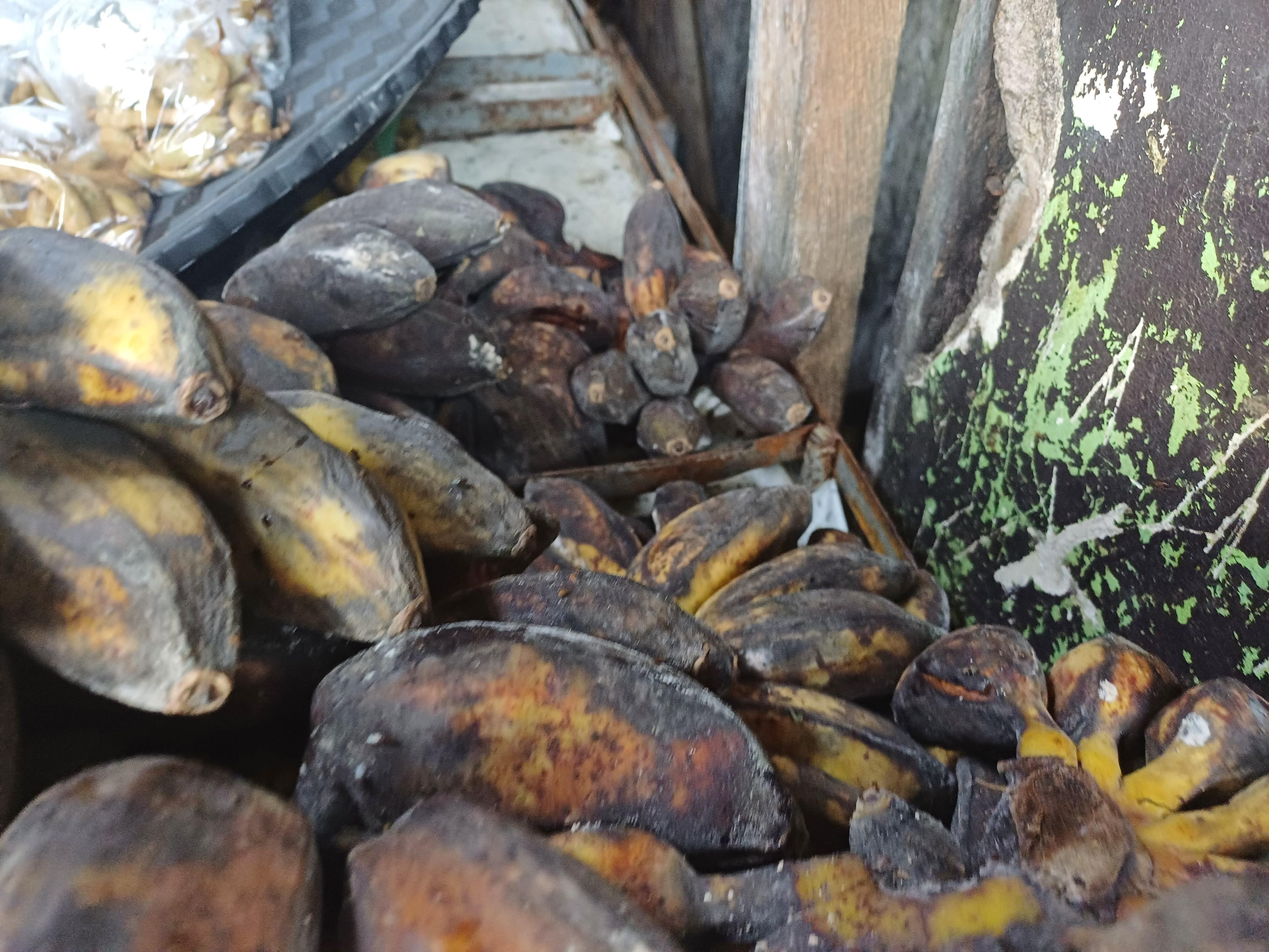overripe: (0, 228, 538, 715), (526, 478, 953, 853), (297, 568, 801, 862), (0, 752, 692, 952), (572, 187, 831, 456), (889, 625, 1269, 799), (223, 180, 505, 397), (436, 227, 627, 486)
